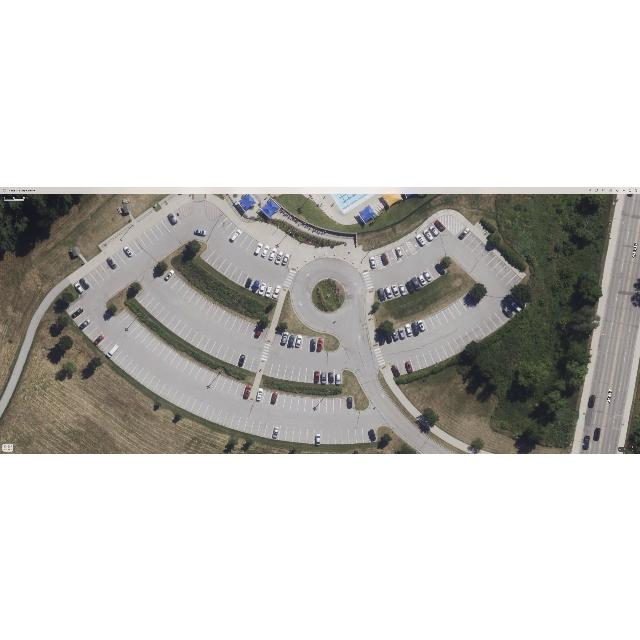Empty: (144, 227, 159, 244), (111, 252, 126, 268), (133, 235, 147, 252), (156, 219, 170, 235), (150, 223, 164, 239), (139, 231, 153, 247), (223, 222, 237, 237), (409, 237, 422, 252), (208, 373, 220, 389), (202, 370, 214, 386), (401, 242, 413, 257), (214, 376, 226, 391), (221, 378, 233, 393), (227, 381, 239, 396), (387, 249, 398, 265), (235, 383, 246, 399), (243, 354, 254, 370), (230, 350, 241, 365), (276, 364, 287, 379), (283, 365, 294, 380), (238, 320, 249, 335), (245, 323, 256, 337), (270, 363, 280, 378), (291, 366, 300, 381), (305, 368, 314, 383), (298, 368, 307, 382)
Parked: (166, 211, 182, 227), (506, 297, 522, 313), (92, 331, 108, 347), (72, 280, 88, 296), (68, 305, 85, 320), (79, 276, 94, 293), (456, 225, 471, 241), (500, 302, 515, 318), (106, 256, 121, 272), (122, 244, 137, 260), (105, 343, 120, 358), (228, 226, 242, 242), (78, 316, 94, 330), (396, 279, 409, 296), (402, 276, 415, 293), (259, 244, 272, 261), (252, 241, 265, 258), (417, 319, 430, 336), (433, 218, 447, 233), (421, 268, 435, 283), (161, 268, 176, 282), (464, 292, 479, 306), (409, 274, 422, 290), (415, 270, 428, 286), (251, 324, 264, 340), (242, 273, 255, 289), (265, 247, 278, 263), (262, 281, 274, 298), (256, 279, 268, 296), (250, 276, 262, 293), (428, 223, 442, 237), (433, 261, 447, 275), (423, 227, 436, 242), (396, 327, 409, 342), (396, 244, 408, 260), (383, 284, 395, 300), (389, 282, 401, 298), (236, 352, 248, 368), (273, 250, 285, 266), (411, 322, 423, 338), (415, 233, 427, 248), (279, 253, 291, 268), (381, 251, 392, 267), (254, 388, 265, 404), (403, 357, 414, 373), (271, 284, 282, 300), (391, 328, 402, 344), (404, 324, 415, 340), (279, 332, 290, 347), (390, 362, 401, 377), (384, 331, 395, 346), (286, 334, 297, 348), (377, 286, 387, 301), (269, 392, 279, 407), (242, 385, 252, 400), (271, 425, 281, 440), (377, 332, 387, 347), (294, 335, 304, 349), (309, 337, 318, 352), (316, 337, 324, 353), (369, 255, 378, 269), (314, 429, 322, 444), (347, 396, 355, 411), (313, 368, 321, 383), (320, 368, 328, 383), (369, 428, 377, 442), (327, 369, 335, 383), (335, 369, 342, 384)
